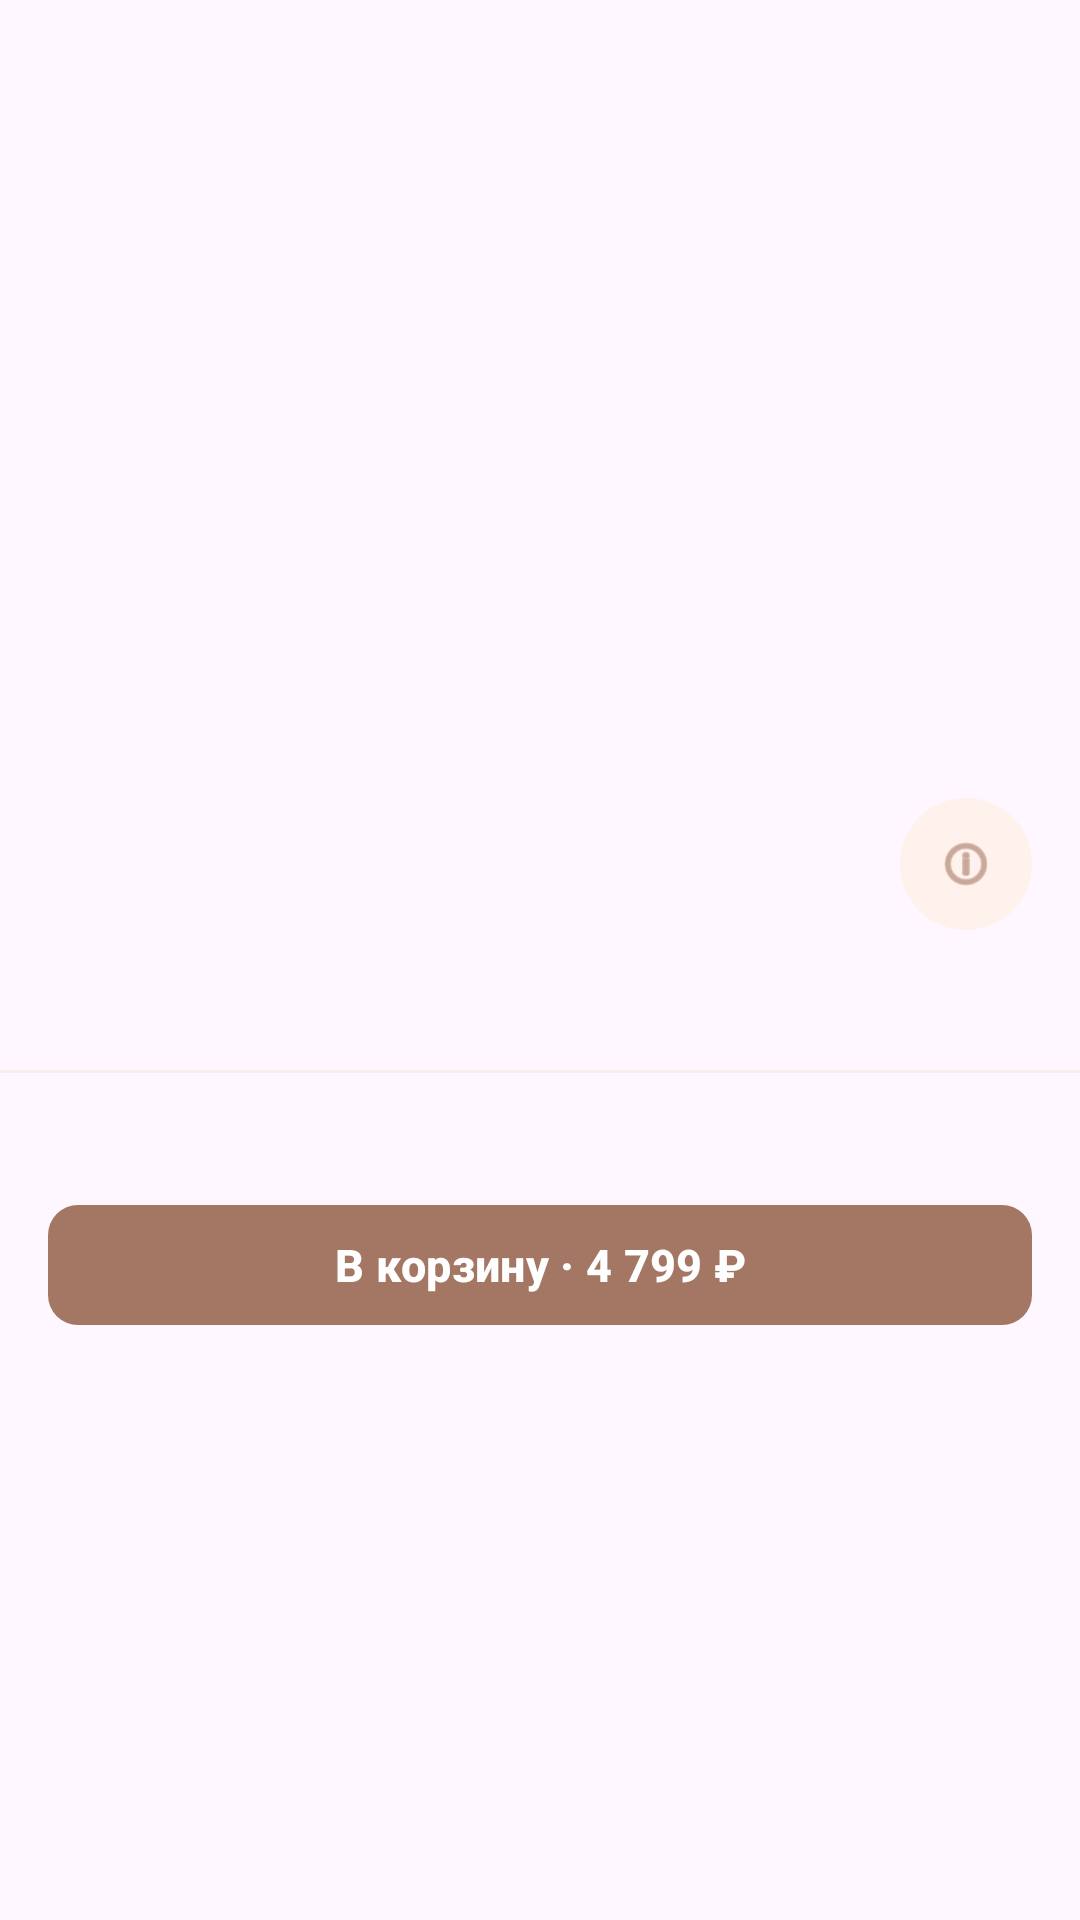

Screen size 1080w x 1920h. Icon name, then its center in pixels as (x=x, y=y):
info details: (x=966, y=864)
